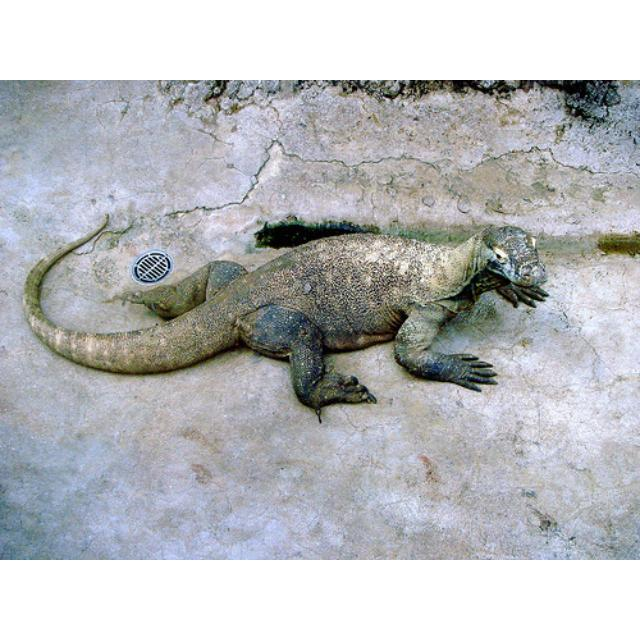KomodoDragon: (18, 211, 546, 423)
